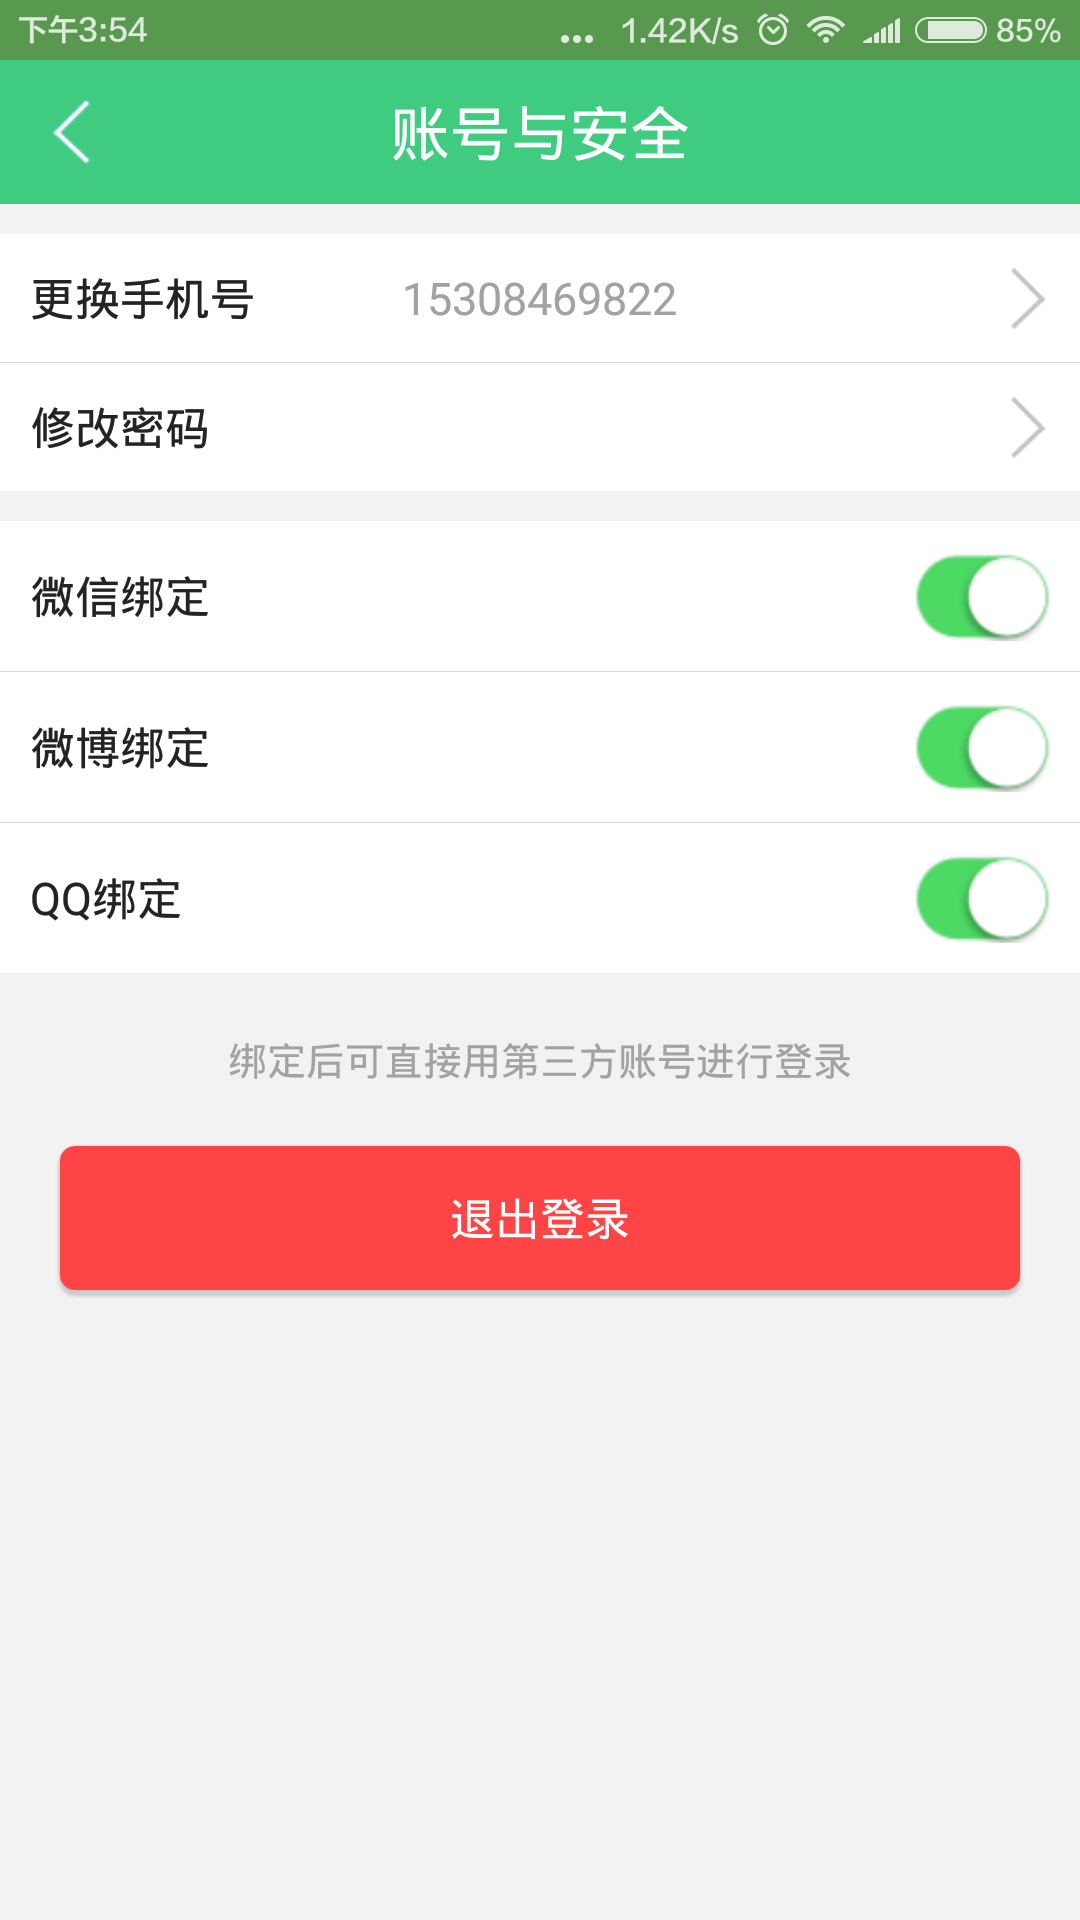button: (11, 349, 1080, 498)
